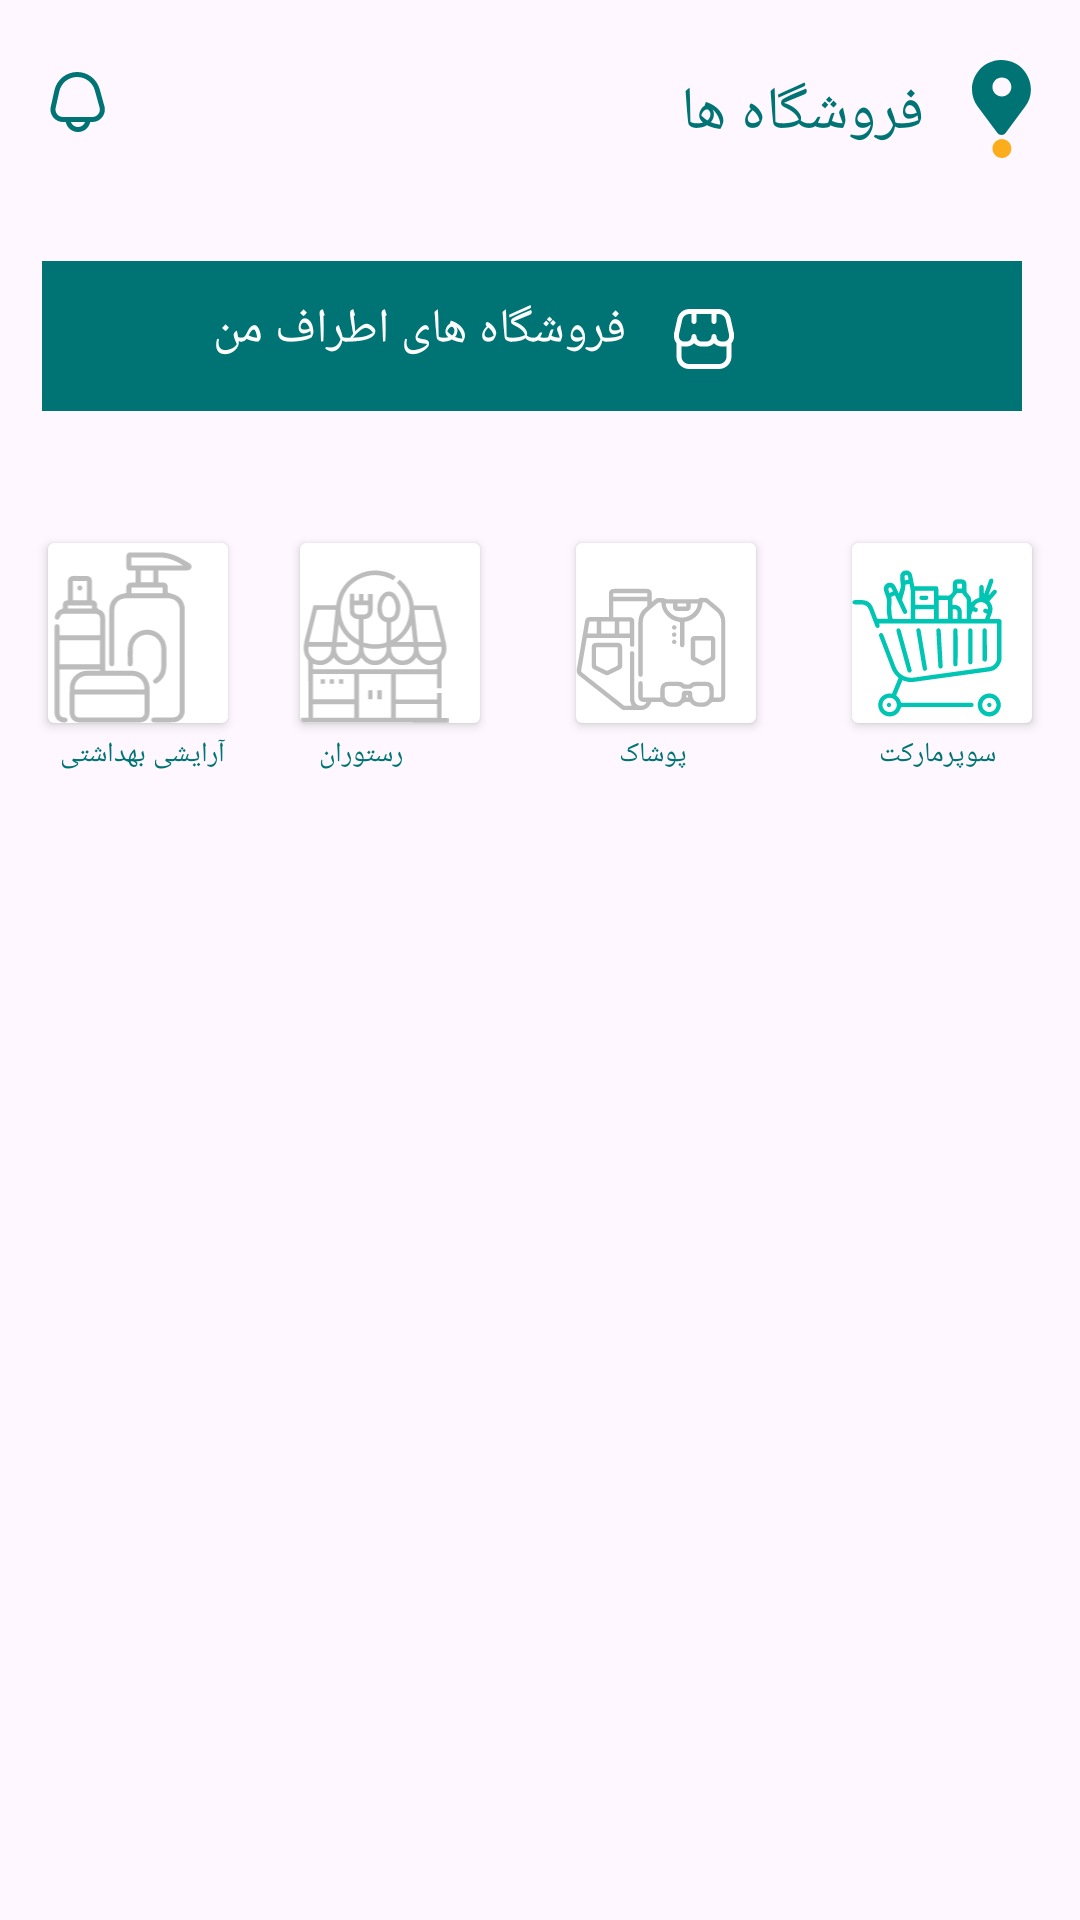

Screen size 1080 × 1920. Icon name, then its center in pixels as point (x, y):
basket: point (927, 643)
cleaning: point (120, 637)
map: point (1001, 109)
mini strore: point (704, 339)
notificaiton: point (77, 102)
